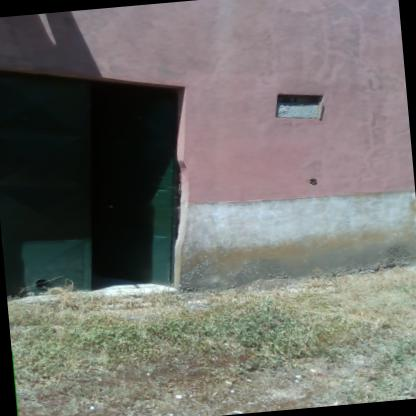semi: (0, 52, 207, 304)
